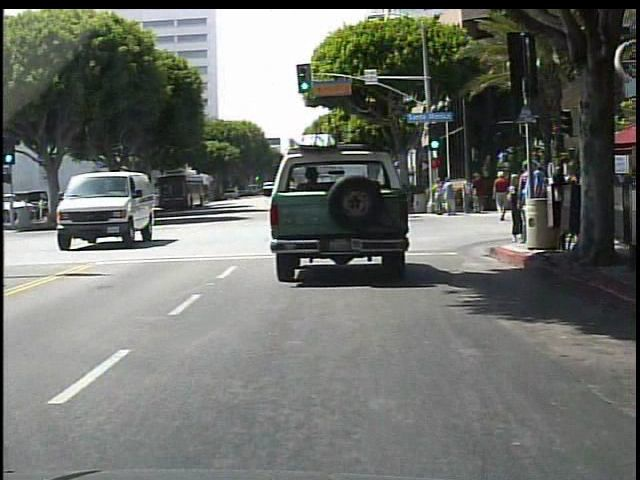person: (523, 158, 548, 250), (504, 170, 524, 242), (491, 170, 510, 222), (520, 177, 538, 227), (539, 172, 554, 219), (473, 170, 486, 212), (441, 179, 455, 218), (461, 177, 473, 214), (435, 180, 446, 217)
